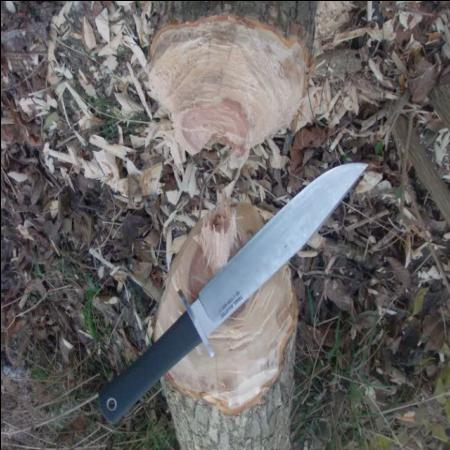long weapon: (186, 158, 372, 345)
